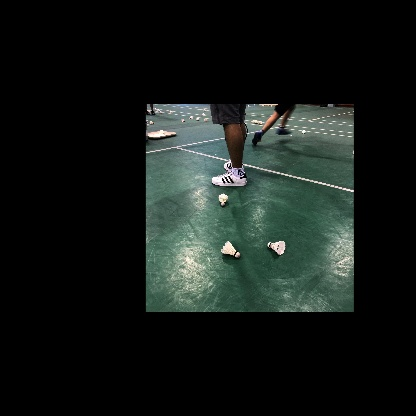ball_single: (221, 241, 240, 258), (267, 241, 286, 255), (218, 193, 228, 206), (250, 120, 262, 124), (302, 130, 306, 134), (189, 116, 193, 119), (150, 121, 154, 124), (196, 118, 199, 121), (182, 119, 185, 122), (204, 119, 207, 121), (203, 109, 206, 111), (202, 113, 205, 115)
